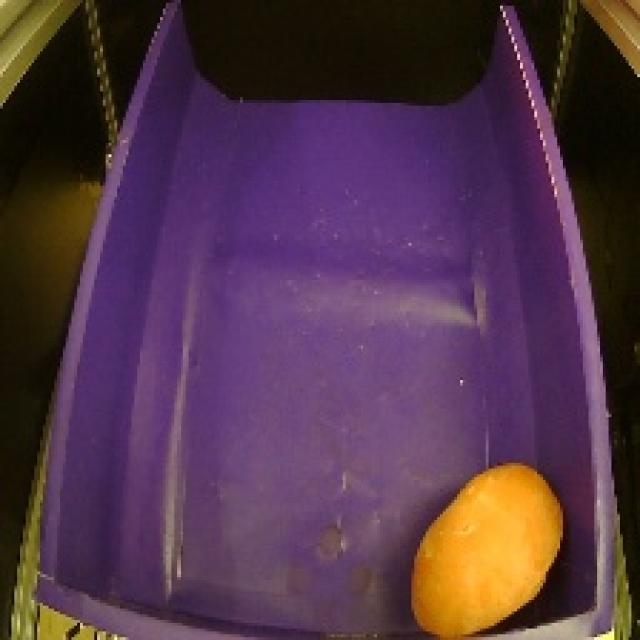carrots: (394, 456, 572, 640)
